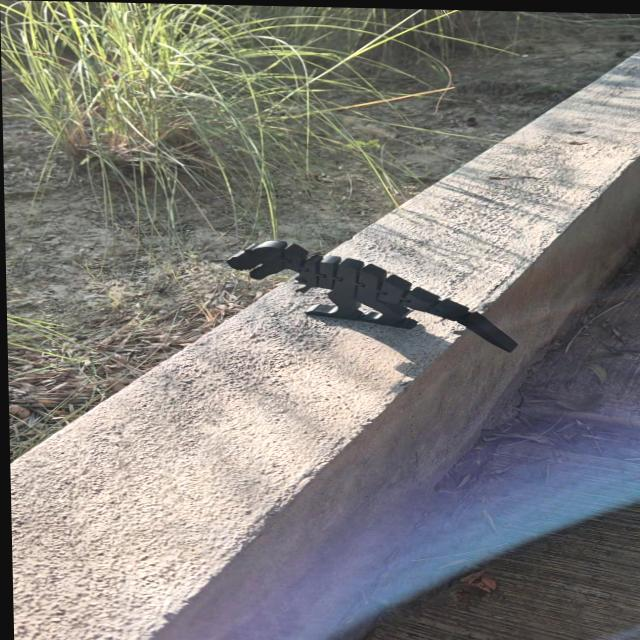dino: (225, 238, 520, 354)
